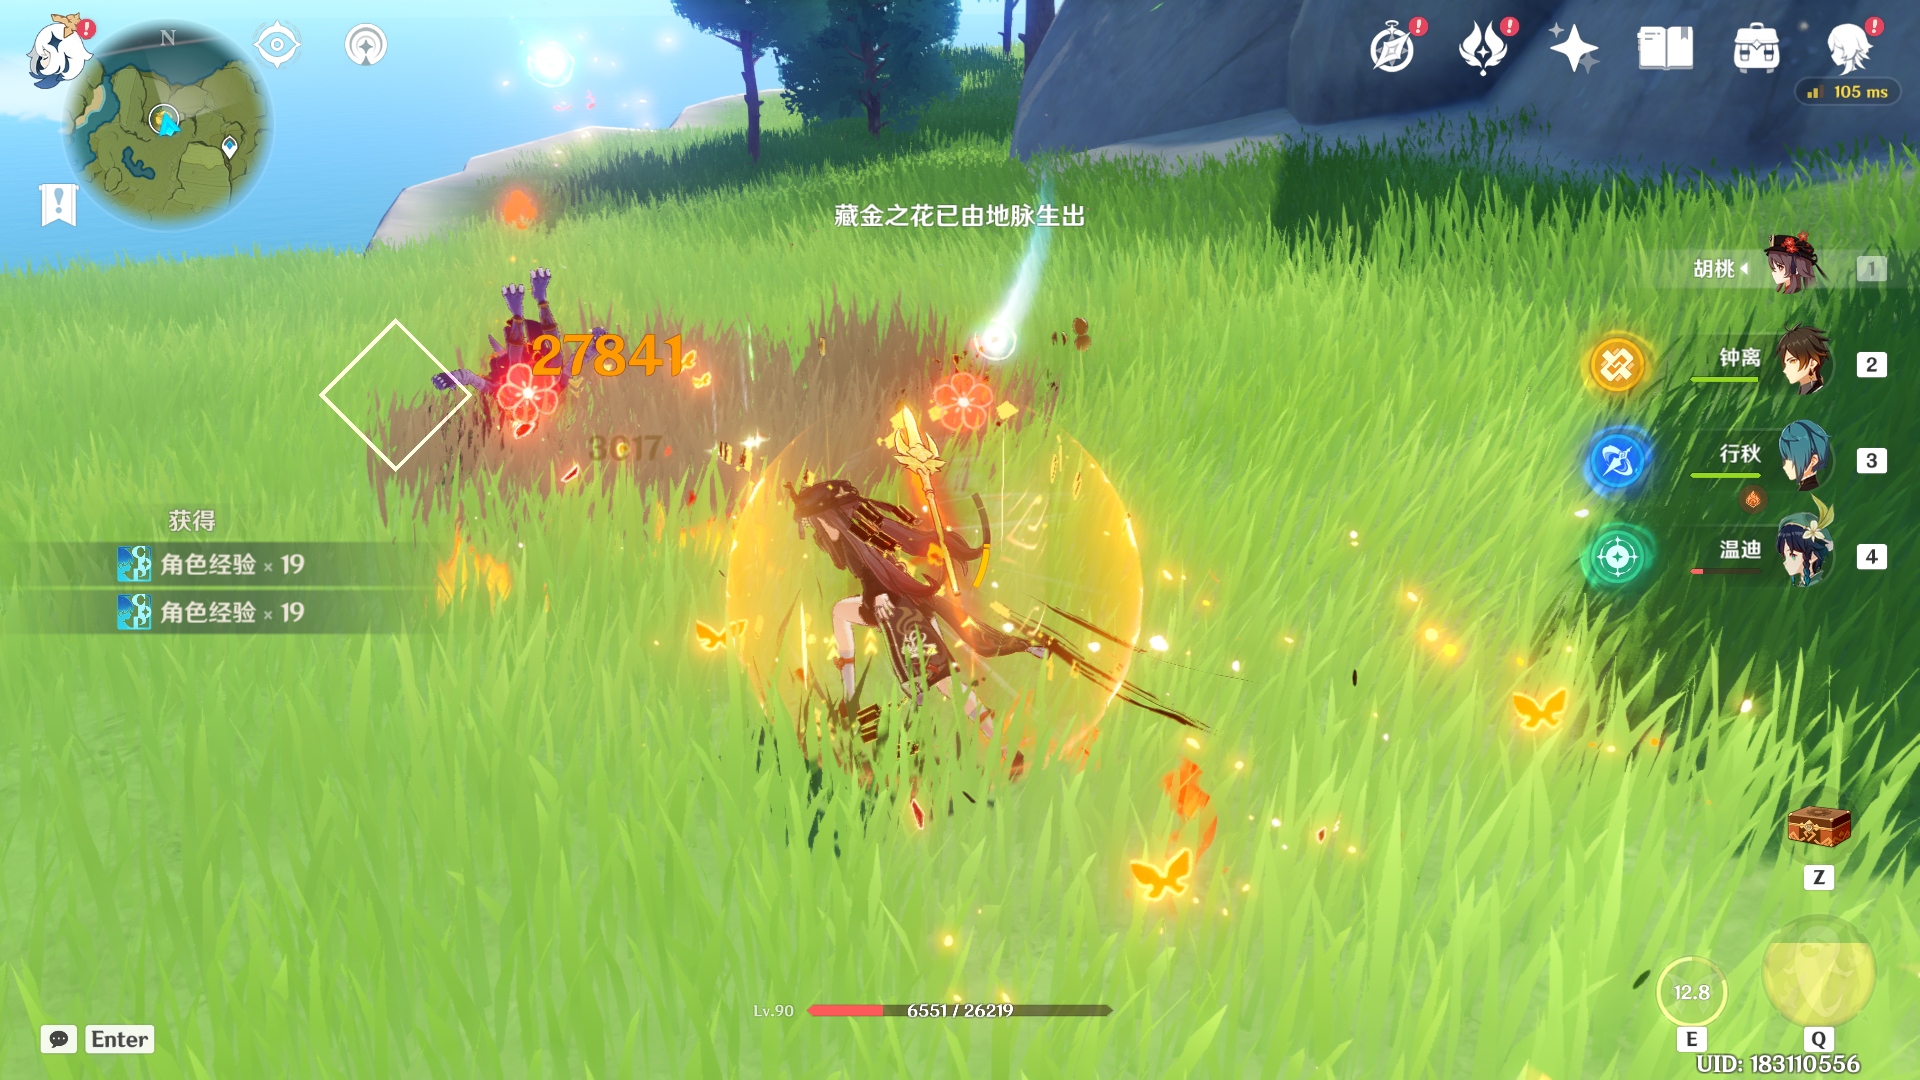character: (764, 419, 1116, 782)
hili: (413, 245, 638, 439)
